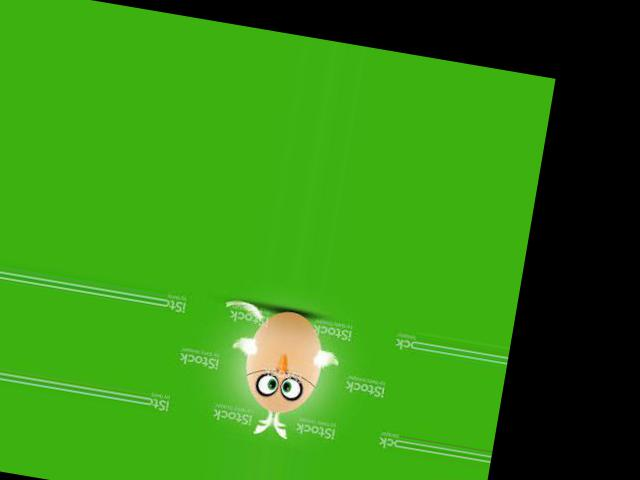egg: (237, 304, 328, 418)
